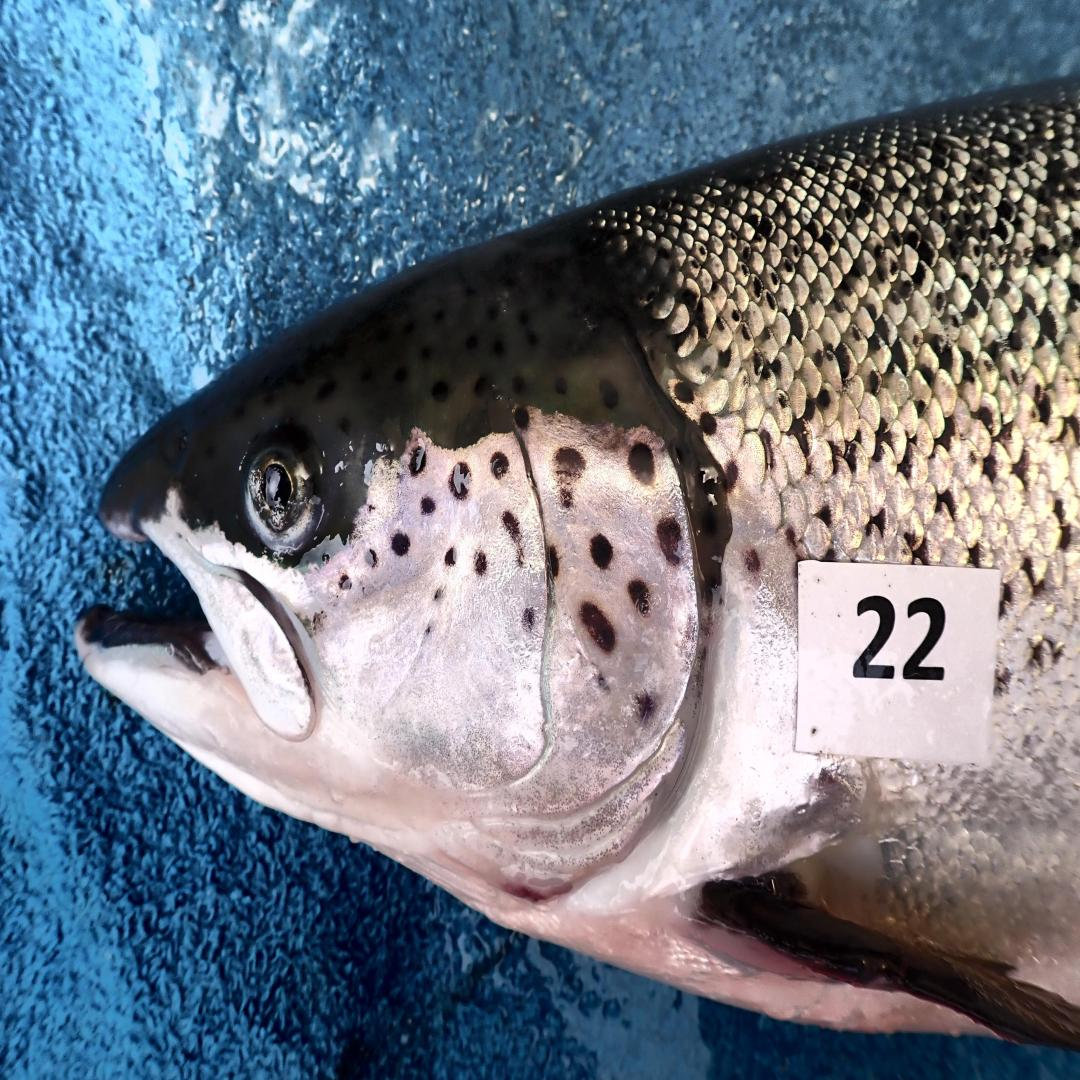spot: (553, 447, 586, 509), (580, 602, 616, 652), (502, 509, 525, 565), (656, 518, 681, 565), (629, 442, 654, 484), (626, 579, 650, 616), (449, 461, 470, 501), (591, 534, 614, 568), (635, 692, 656, 723), (409, 444, 426, 475), (390, 532, 409, 557), (489, 453, 508, 478), (548, 546, 559, 579), (513, 406, 529, 428), (521, 608, 536, 630), (475, 551, 487, 577), (420, 498, 435, 515), (365, 548, 378, 565), (596, 673, 609, 690), (445, 548, 456, 565), (340, 577, 352, 591), (434, 588, 442, 600), (425, 625, 431, 636)
